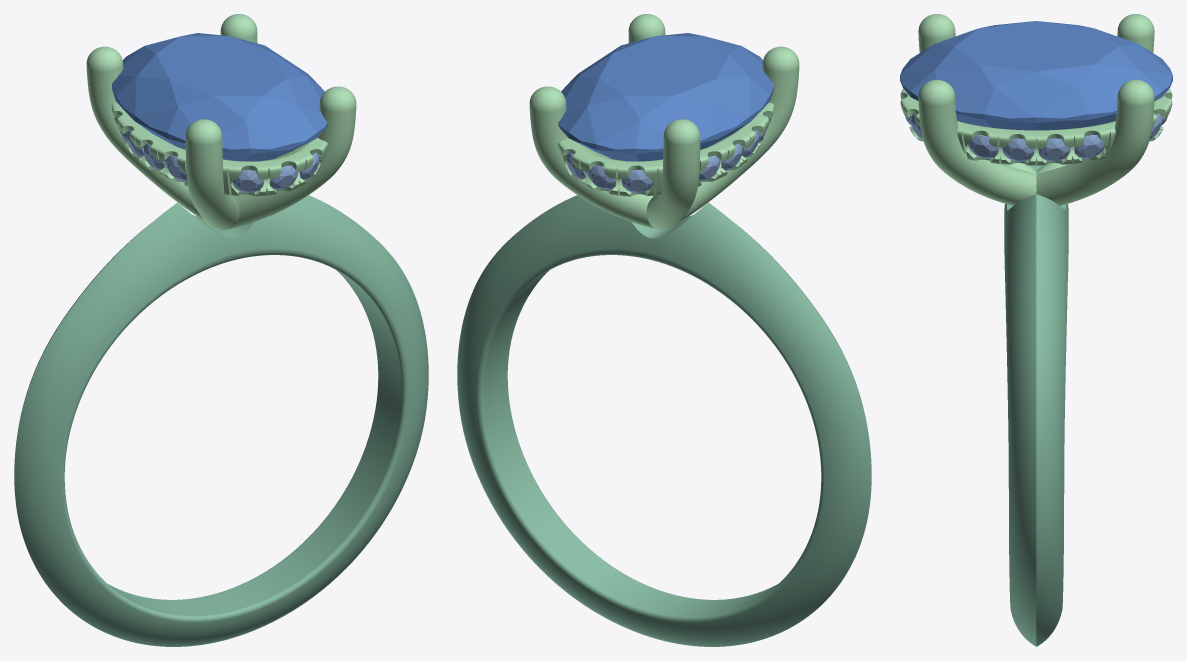
The picture shows the model from 3 angles, left to right: view 1: azimuth 30°, elevation 25°; view 2: azimuth 150°, elevation 25°; view 3: azimuth 270°, elevation 25°; orthographic projection.
Visible parts, largest first — view 1: Export_6_2.6mm band.3dm, Gem; view 2: Export_6_2.6mm band.3dm, Gem; view 3: Export_6_2.6mm band.3dm, Gem (×5).
Boxes of the visible parts, box(x1,y1,x2,y2) form: Export_6_2.6mm band.3dm: box(14, 14, 428, 646); Gem: box(112, 33, 327, 161); Export_6_2.6mm band.3dm: box(457, 14, 871, 646); Gem: box(558, 33, 773, 161); Export_6_2.6mm band.3dm: box(900, 14, 1172, 646); Gem (×5): box(900, 21, 1172, 161).
Size of the model in its own units: 2.28 by 3.02 by 1.29.
